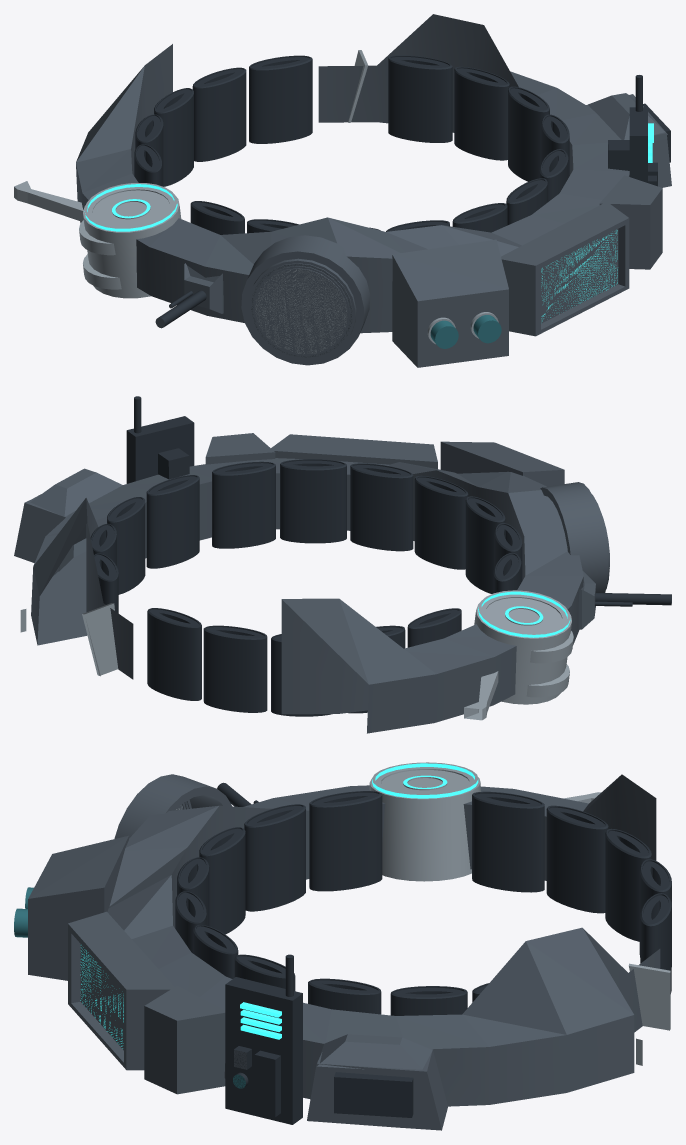
The model's file is SpaceCollar.fbx.
3 renders of one model, top to bottom at view 1: azimuth 30°, elevation 25°; view 2: azimuth 150°, elevation 25°; view 3: azimuth 270°, elevation 25°, orthographic. The views are drawn at different scales.
Parts seen in each view (by area): view 1: Material2.004, Material2.008, Material2.011, Material3.003, Material2, Material3, Material3.002, Material2.003, Material2.010, Material2.005, Material2.012; view 2: Material2.004, Material2.008, Material2.011, Material2.001, Material2, Material3, Material2.003, Material2.010; view 3: Material2.004, Material2.008, Material2.011, Material2.003, Material2.001, Material3, Material3.002.
Boxes of the visible parts, left/top/right/bottom form: Material2.004: left=76, top=14, right=671, bottom=367; Material2.008: left=134, top=55, right=670, bottom=357; Material2.011: left=83, top=189, right=181, bottom=298; Material3.003: left=255, top=269, right=346, bottom=353; Material2: left=79, top=187, right=174, bottom=289; Material3: left=84, top=183, right=498, bottom=344; Material3.002: left=541, top=230, right=617, bottom=321; Material2.003: left=84, top=123, right=653, bottom=231; Material2.010: left=14, top=181, right=83, bottom=221; Material2.005: left=473, top=315, right=501, bottom=343; Material2.012: left=430, top=320, right=458, bottom=348; Material2.004: left=14, top=433, right=671, bottom=733; Material2.008: left=35, top=396, right=671, bottom=716; Material2.011: left=474, top=597, right=571, bottom=704; Material2.001: left=20, top=603, right=118, bottom=676; Material2: left=481, top=594, right=573, bottom=697; Material3: left=20, top=590, right=570, bottom=634; Material2.003: left=478, top=591, right=570, bottom=637; Material2.010: left=464, top=672, right=498, bottom=720; Material2.004: left=28, top=774, right=660, bottom=1130; Material2.008: left=175, top=782, right=671, bottom=1124; Material2.011: left=369, top=769, right=480, bottom=881; Material2.003: left=240, top=763, right=478, bottom=1039; Material2.001: left=628, top=963, right=670, bottom=1065; Material3: left=372, top=762, right=642, bottom=1063; Material3.002: left=80, top=945, right=123, bottom=1048.
Size of the model in its own units: 2330 by 585 by 2042.
